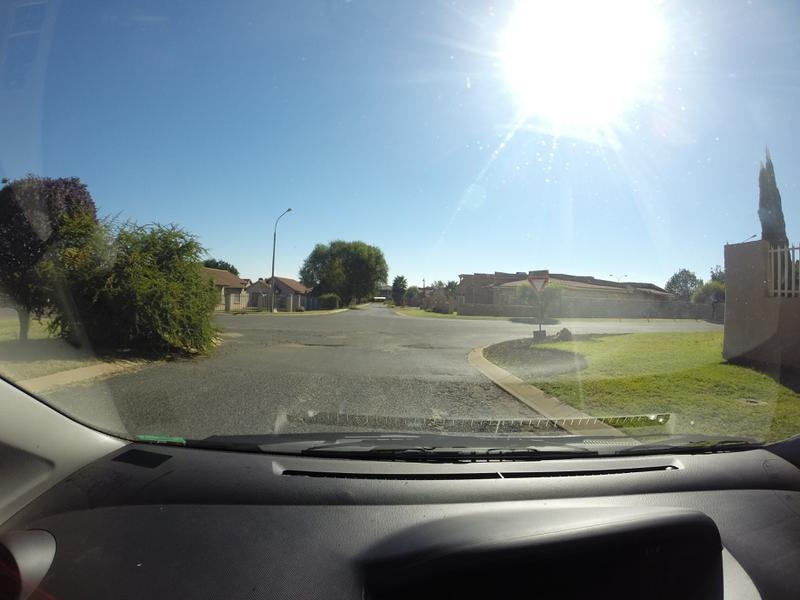pothole: (288, 338, 346, 355), (396, 338, 444, 355)
